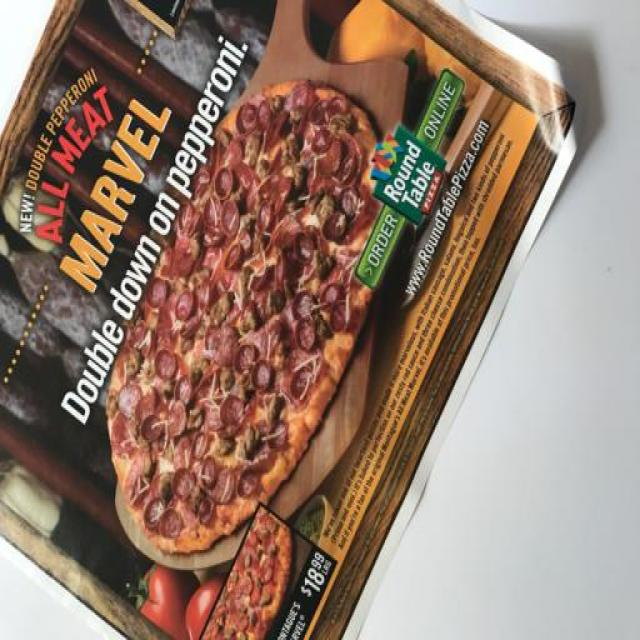paper: (1, 1, 586, 638)
